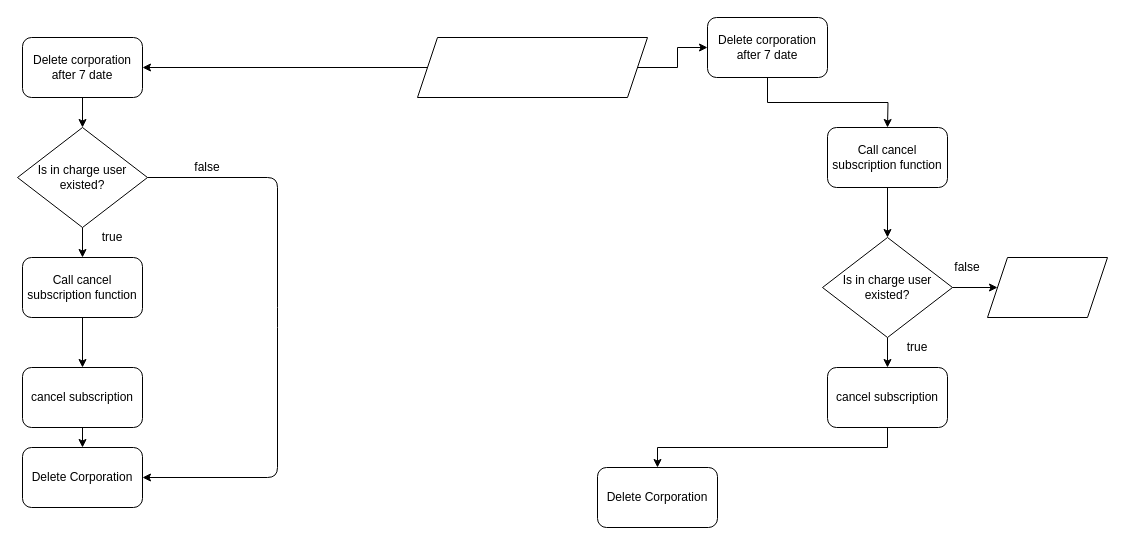
The diagram is 1125 pixels wide and 545 high, and some of its shapes have lost their labels. The shapes that lost their labels are listed below. From the top down, each one's centre as x and y in pixels, then its label:
At (532,67): "in charge user is deleted after 7 dates".
At (1047,287): "Error".
